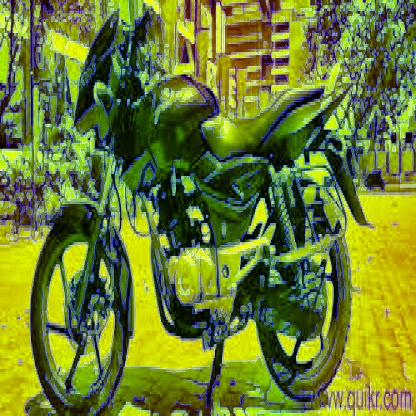bike: (42, 18, 356, 405)
